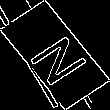N_NE: (19, 24, 91, 86)
